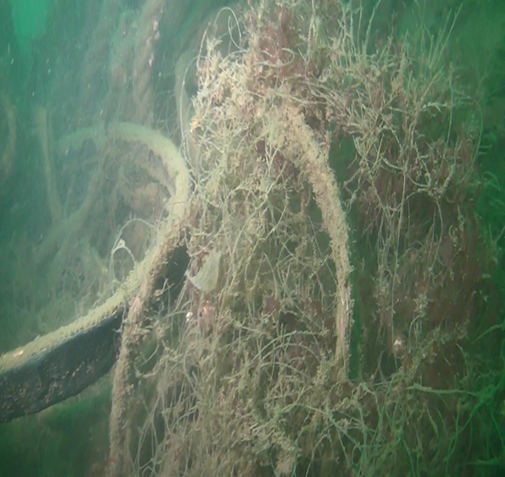fishing net: (102, 1, 505, 477)
